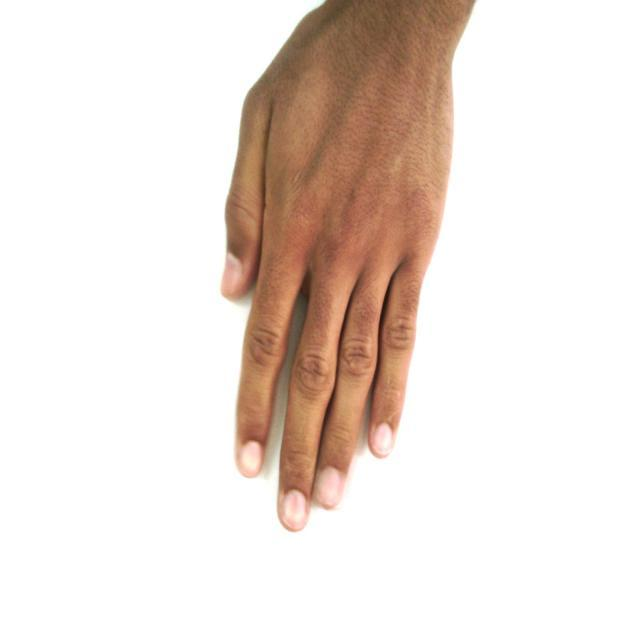Fingernail: (282, 491, 307, 529), (319, 467, 342, 506), (240, 442, 262, 476), (222, 257, 241, 295), (372, 424, 392, 454)
